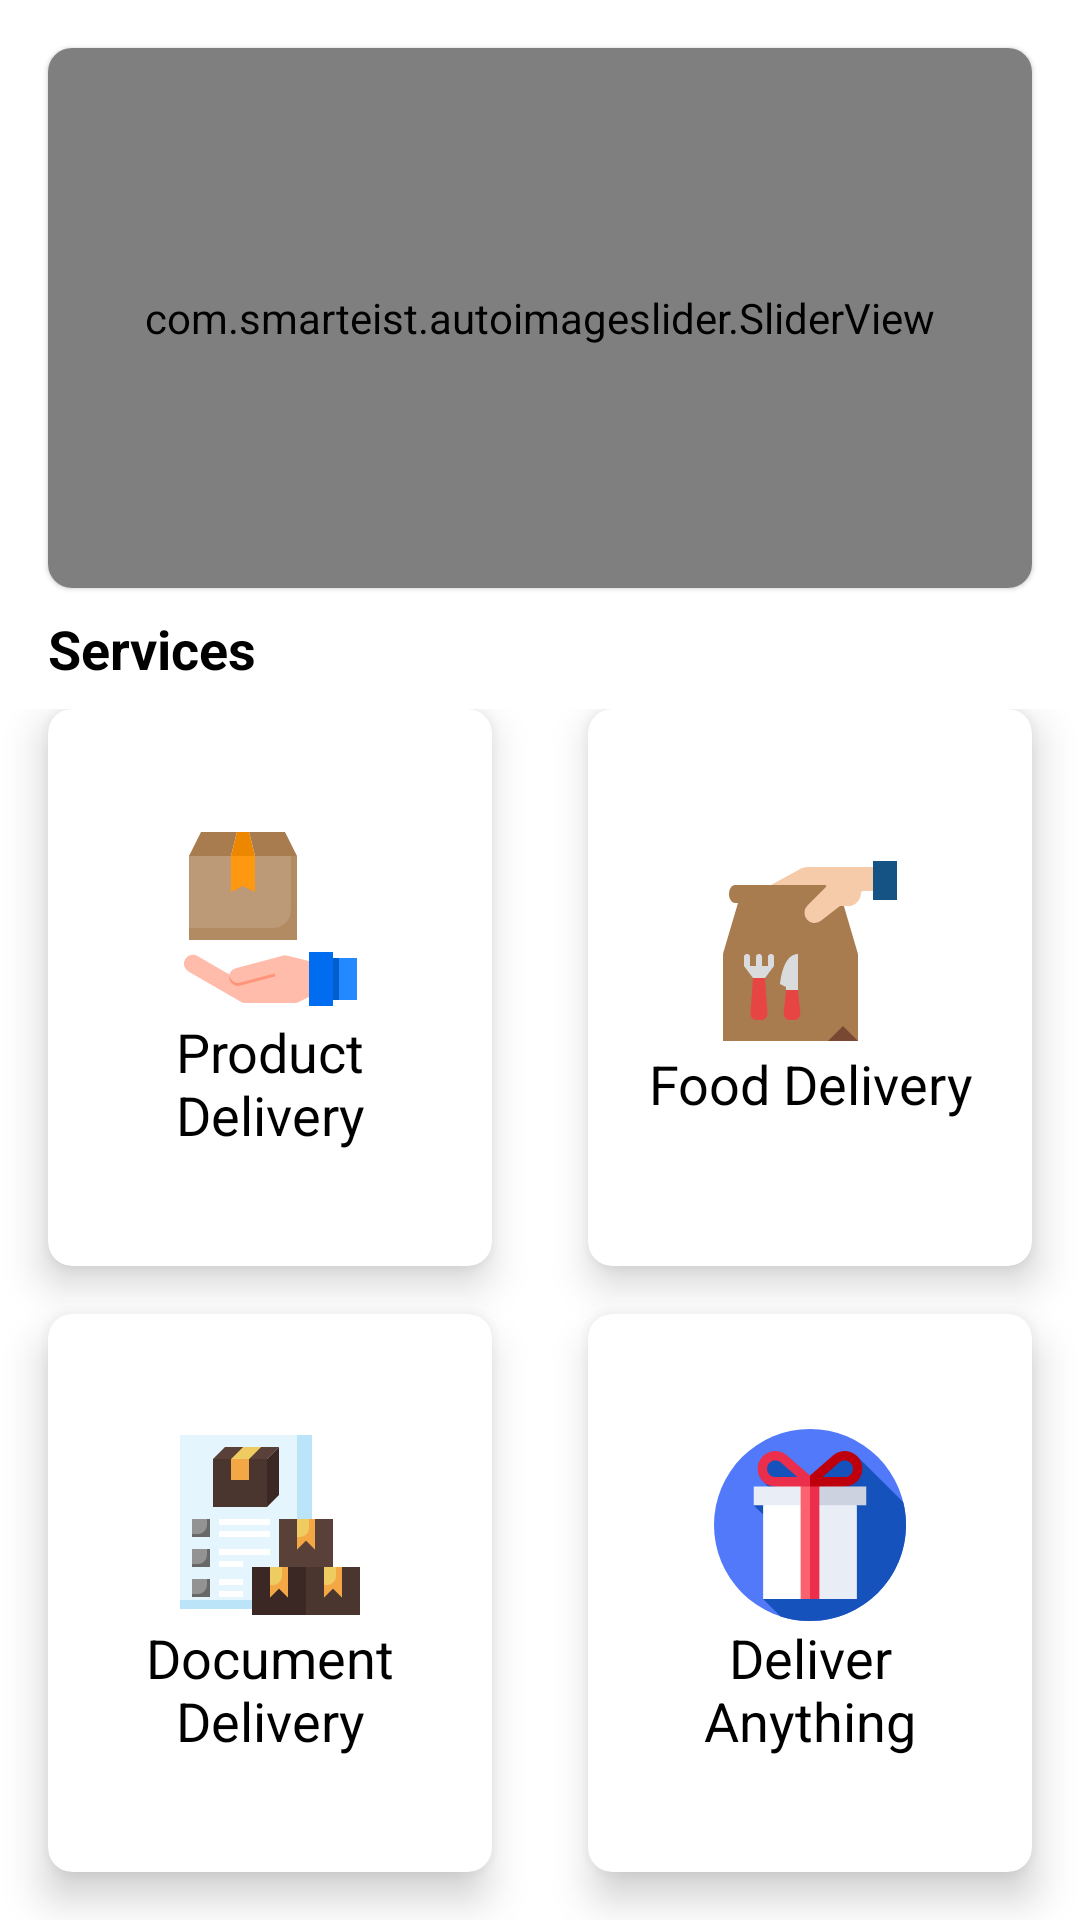

Named icons in this screenshot (1080 x 1920) and their bounding boxes, [x1,y1,x2,y2]:
present: [714,1429,906,1621]
resource parcel: [184,832,357,1006]
